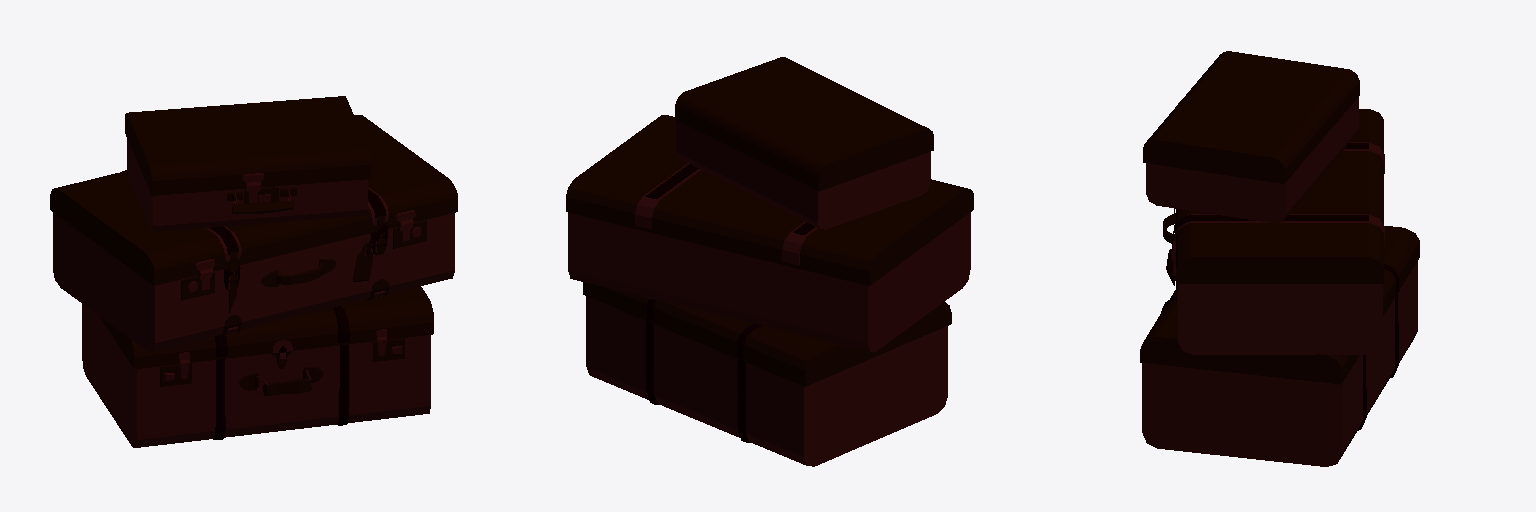
The model's file is suitcase_final.obj.
3 views of the same model, side by side, from view 1: azimuth 30°, elevation 25°; view 2: azimuth 150°, elevation 25°; view 3: azimuth 270°, elevation 25° (orthographic).
Visible parts, largest first — view 1: b_low_phong1_0; view 2: b_low_phong1_0; view 3: b_low_phong1_0.
Boxes of the visible parts, <box> form: b_low_phong1_0: <box>50,96,457,447</box>; b_low_phong1_0: <box>566,57,973,466</box>; b_low_phong1_0: <box>1140,51,1419,466</box>.
Bounding box in the file's own units: 34.53 × 30.18 × 27.22.